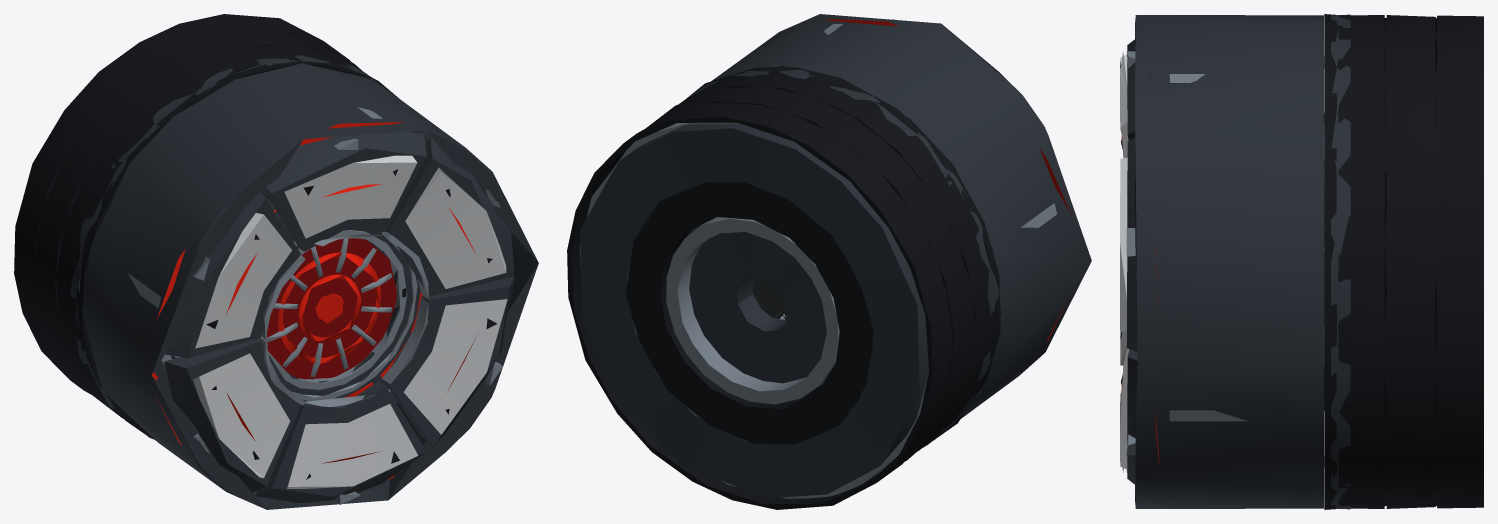
The model's file is coreLite.glb.
3 renders of one model, left to right at view 1: azimuth 30°, elevation 25°; view 2: azimuth 150°, elevation 25°; view 3: azimuth 270°, elevation 25°, orthographic. The views are drawn at different scales.
Parts seen in each view (by area): view 1: Chest | receiver shoulder, Optic | bus bars, Shield 05.3 | armor, Shield 05.4 | armor, Shield 05.5 | armor, Shield 05.6 | armor, Shield 05.1 | armor, Shield 05.2 | armor; view 2: Chest | receiver shoulder, Reactor | Chamber | Anvil asymmetric heat comb; view 3: Chest | receiver shoulder, Shield 05.1 | armor, Shield 05.5 | armor, Shield 05.3 | armor.
Part boxes in pixels (x1,y1,x2,y2): Chest | receiver shoulder: [14, 14, 538, 509]; Optic | bus bars: [257, 196, 423, 403]; Shield 05.3 | armor: [266, 127, 426, 251]; Shield 05.4 | armor: [164, 338, 305, 492]; Shield 05.5 | armor: [381, 276, 514, 447]; Shield 05.6 | armor: [255, 381, 426, 504]; Shield 05.1 | armor: [382, 137, 514, 299]; Shield 05.2 | armor: [165, 192, 305, 358]; Chest | receiver shoulder: [567, 14, 1091, 509]; Reactor | Chamber | Anvil asymmetric heat comb: [666, 217, 839, 404]; Chest | receiver shoulder: [1134, 14, 1483, 509]; Shield 05.1 | armor: [1120, 138, 1137, 351]; Shield 05.5 | armor: [1120, 348, 1137, 483]; Shield 05.3 | armor: [1120, 39, 1150, 157].
Bounding box in the file's own units: 0.2822 × 0.2679 × 0.1967.
